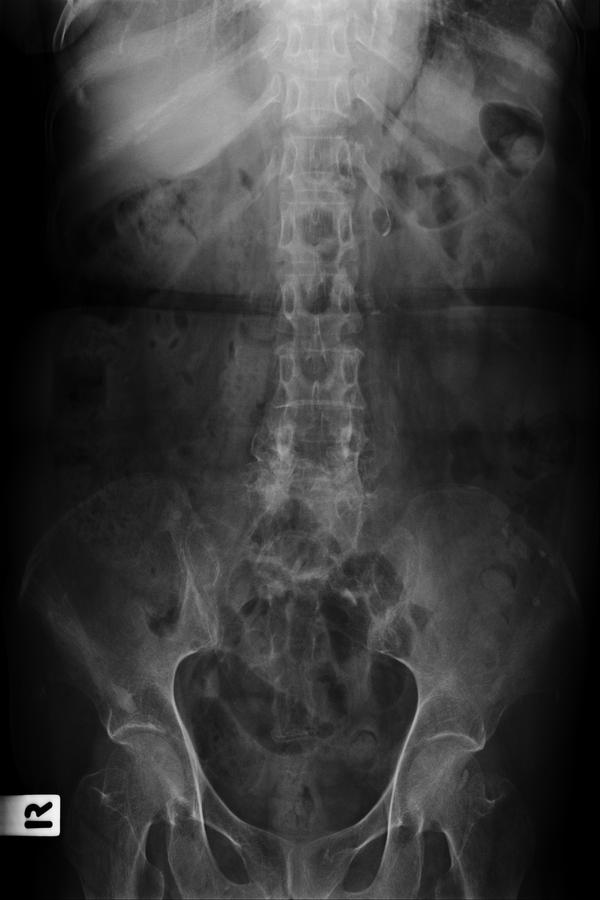lumbar scoliosis: (255, 162, 374, 522)
